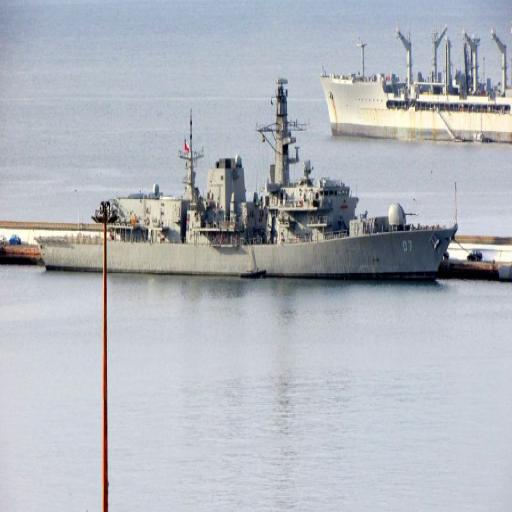Fragata: (33, 70, 461, 288)
